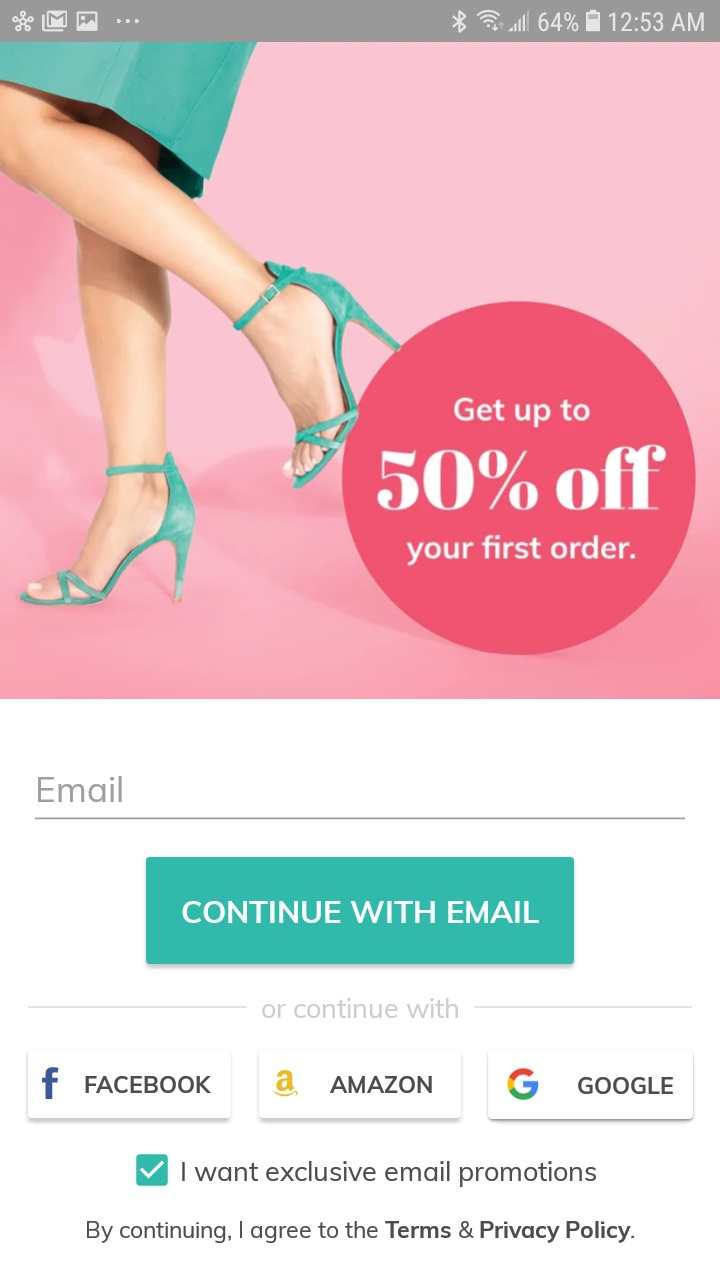CheckedTextView: (136, 1153, 597, 1188)
EditText: (35, 776, 686, 820)
Image: (1, 43, 720, 700)
Text: (376, 446, 667, 512), (87, 1220, 635, 1244), (182, 1160, 597, 1188), (406, 534, 636, 567), (453, 397, 591, 429), (262, 997, 459, 1019), (38, 776, 124, 804)
TextButton: (146, 857, 575, 965), (487, 1049, 694, 1120), (28, 1049, 233, 1119), (258, 1049, 462, 1119)
UpperTaskBar: (1, 1, 720, 43)
